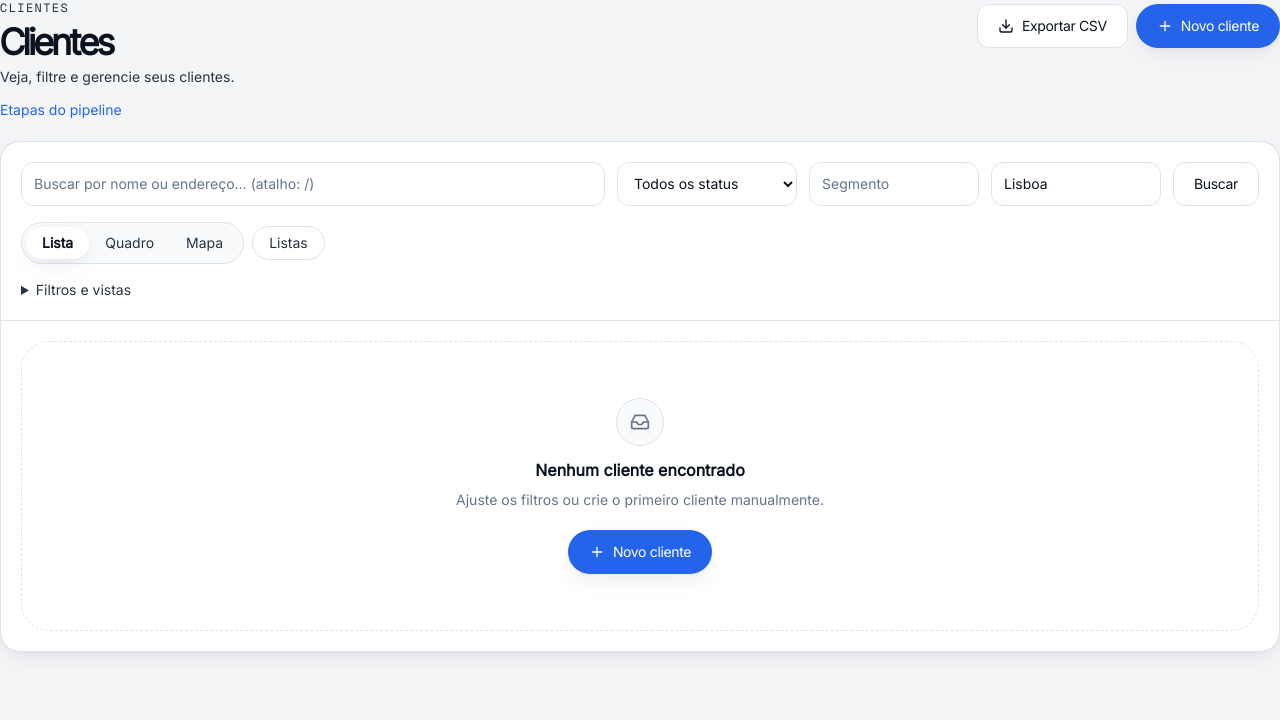
Test: LeadsPage saved views › applies ?view= filters to the lead list and shows the count preview
What coordinates should you click on to do the following:
click the heading "Filtros e vistas"
I would click on:
 (83, 289)
Its box is top-left (36, 281), bottom-right (131, 298).
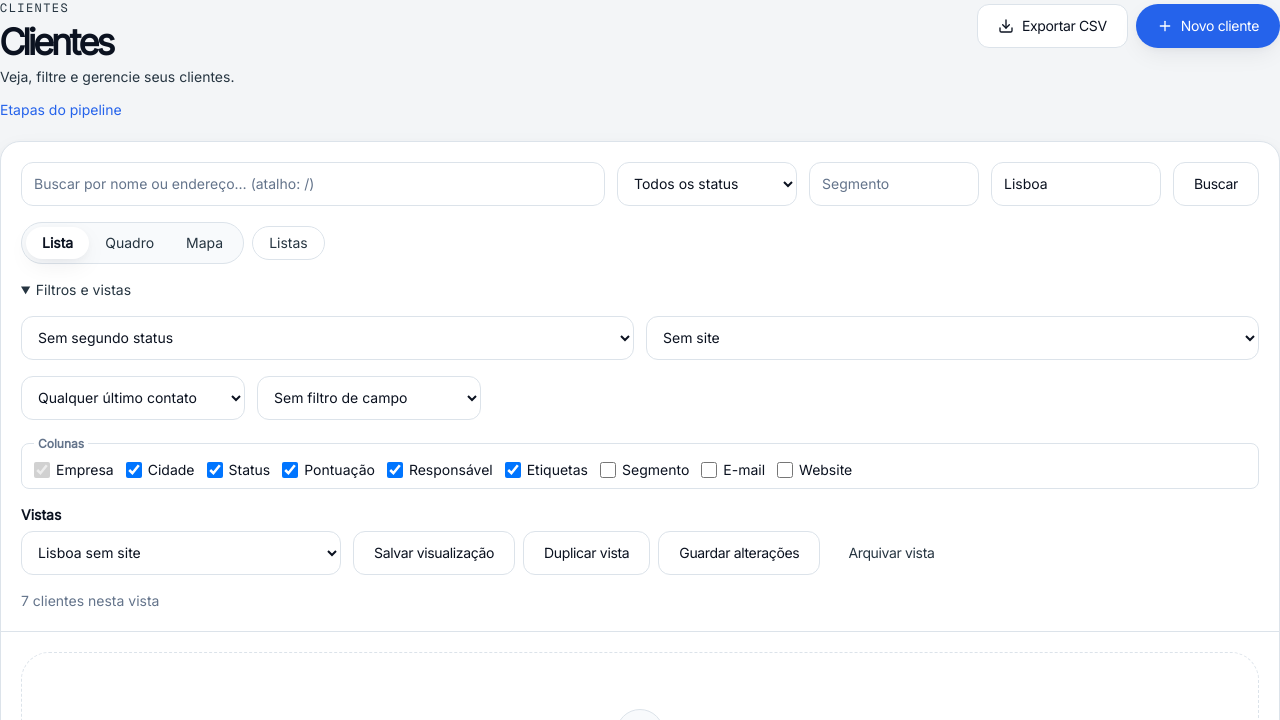
Check: the dropdown labelled "Vistas" shows "Lisboa sem site", box top-left (21, 531), bottom-right (341, 575)
Check: the text "7 clientes nesta vista" is shown, box top-left (21, 592), bottom-right (159, 609)
